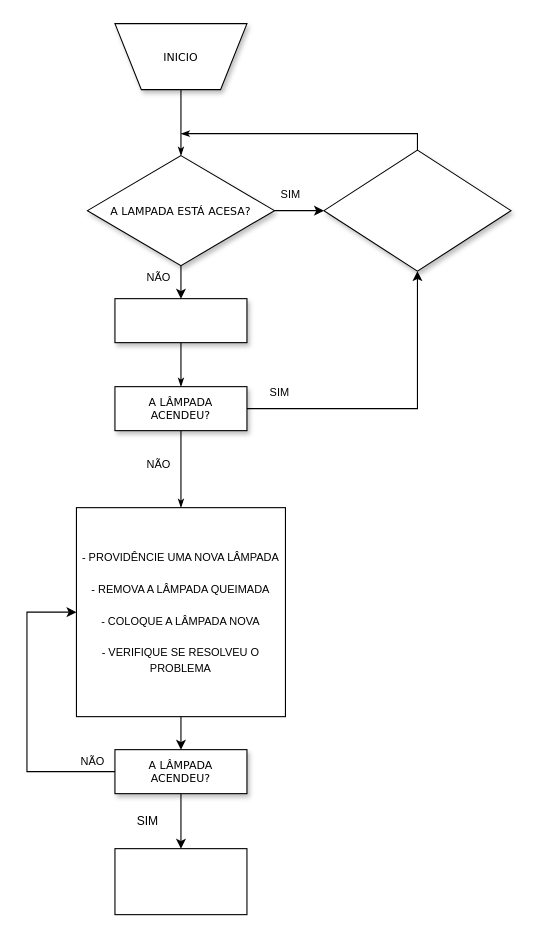
This 537x934 diagram has some shape labels left out. Here are the shapes that lost their labels. From the top down, the centre of each, then its label:
point 418,212: VÁ PARA OUTRO CÔMODO
point 181,321: ACIONE O INTERRUPTOR
point 180,881: FIM
